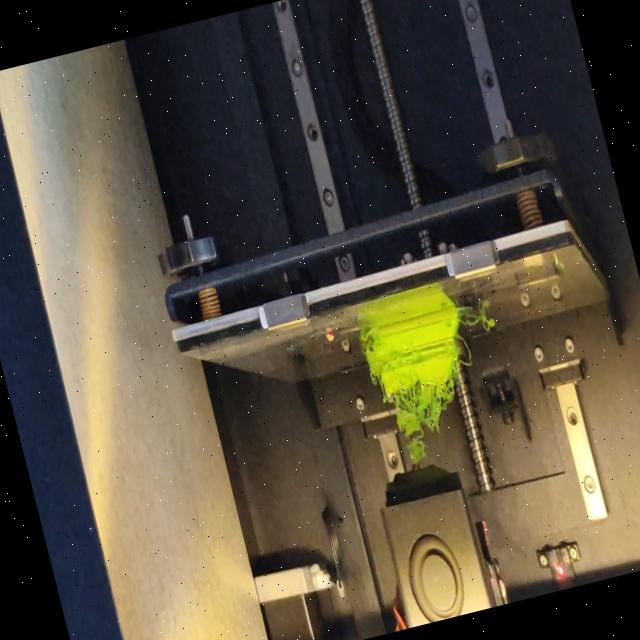spaghetti: (382, 372, 474, 474), (450, 332, 475, 374), (462, 310, 496, 339), (358, 327, 372, 348)
